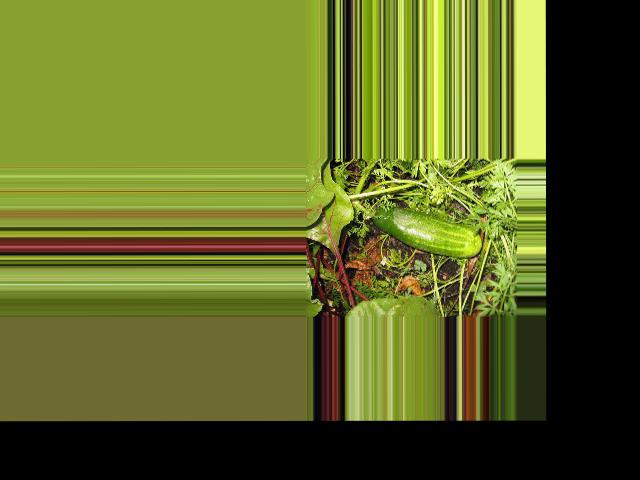cucumber: (371, 204, 479, 257)
